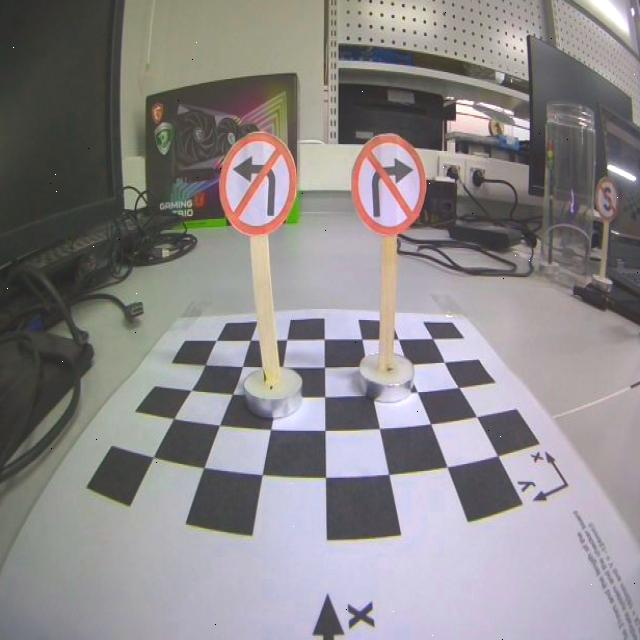Dilarang Belok Kanan: (350, 133, 427, 235)
Dilarang Belok Kiri: (219, 132, 295, 231)
